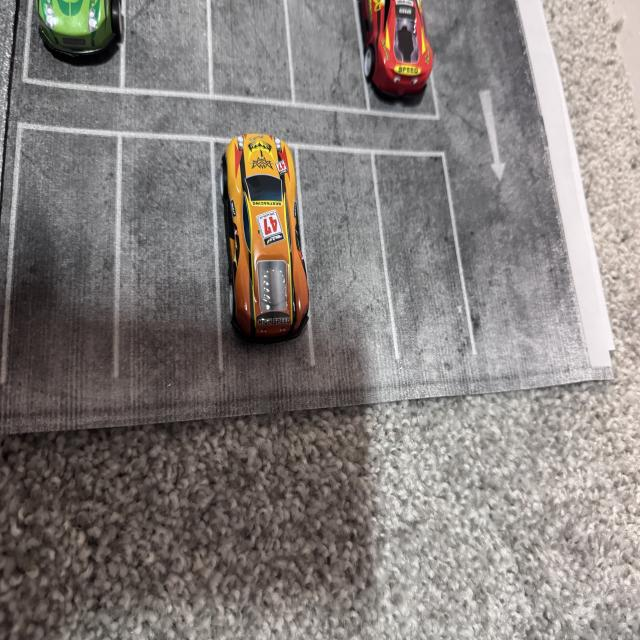car: (188, 102, 341, 324), (300, 0, 457, 202), (21, 0, 136, 125)
